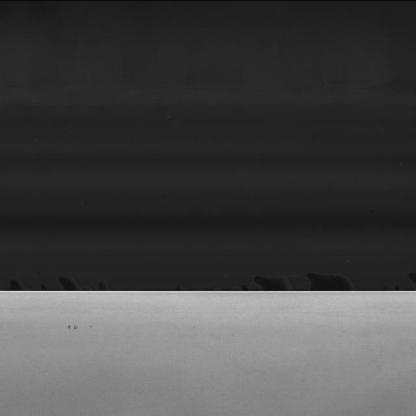inclusion: (61, 321, 96, 332)
